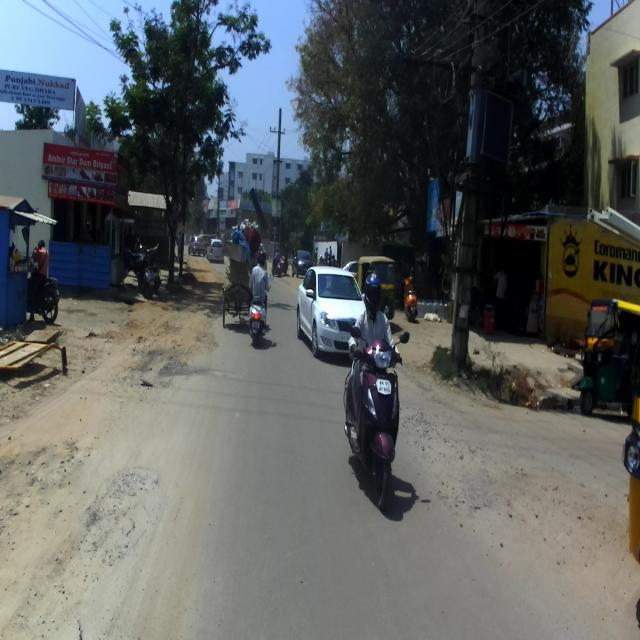car ahead at: (295, 258, 352, 361)
electric pole ahead at: (445, 20, 492, 364)
motorcycle ahead at: (342, 320, 410, 512)
